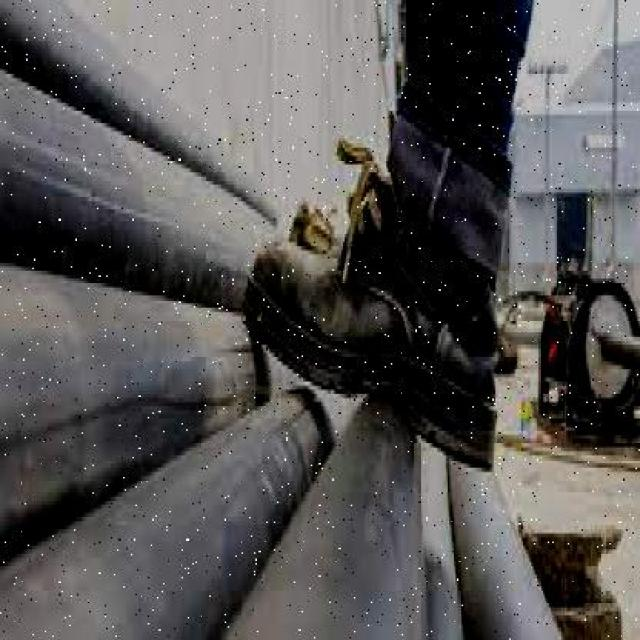shoes: (245, 190, 504, 473)
